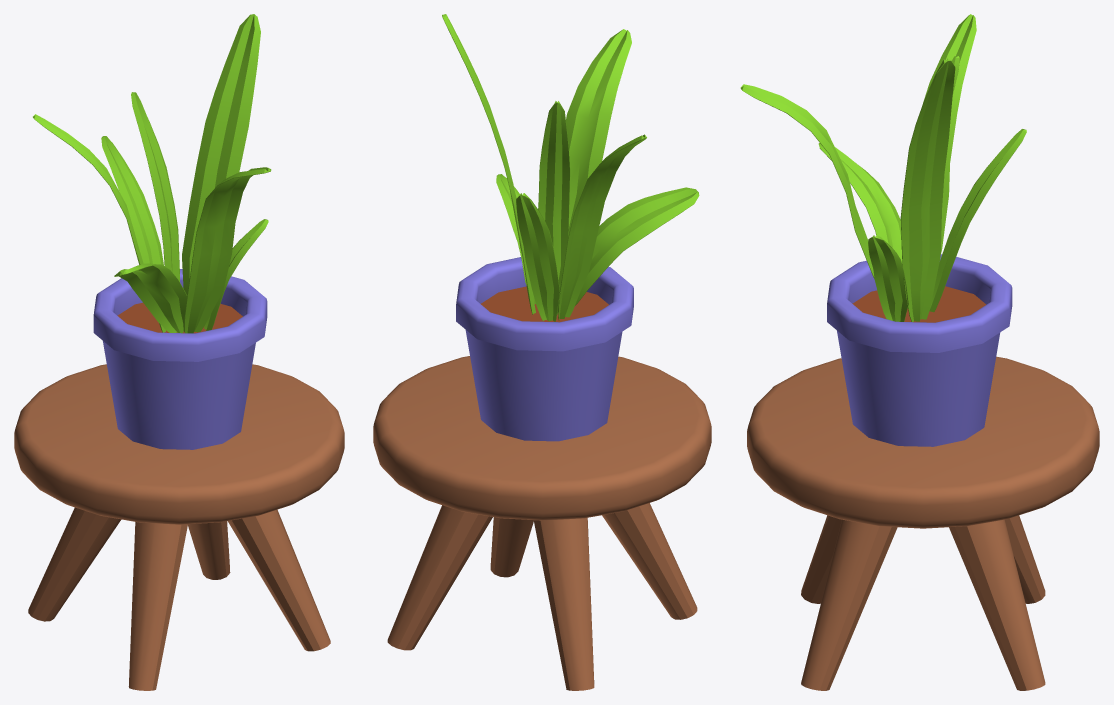
The model's file is 02_Flower.fbx.
3 renders of one model, left to right at view 1: azimuth 30°, elevation 25°; view 2: azimuth 150°, elevation 25°; view 3: azimuth 270°, elevation 25°, orthographic. The views are drawn at different scales.
Visible parts, largest first — view 1: Cylinder.038, Circle.043, Cylinder.037; view 2: Cylinder.038, Circle.043, Cylinder.037; view 3: Cylinder.038, Cylinder.037, Circle.043.
Part boxes in pixels (x1=…): Cylinder.038: x1=14, y1=364, x2=344, y2=690; Circle.043: x1=33, y1=14, x2=271, y2=333; Cylinder.037: x1=93, y1=269, x2=267, y2=449; Cylinder.038: x1=373, y1=356, x2=711, y2=690; Circle.043: x1=442, y1=14, x2=699, y2=321; Cylinder.037: x1=456, y1=257, x2=633, y2=441; Cylinder.038: x1=747, y1=356, x2=1099, y2=690; Cylinder.037: x1=827, y1=254, x2=1012, y2=446; Circle.043: x1=740, y1=14, x2=1026, y2=321.
Bounding box in the file's own units: 31.67 × 62.35 × 32.26.
